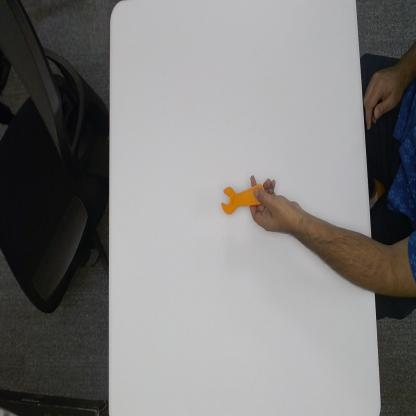Arm: (306, 201, 416, 298)
Hand: (251, 169, 301, 236)
Screwdriver: (220, 180, 258, 216)
